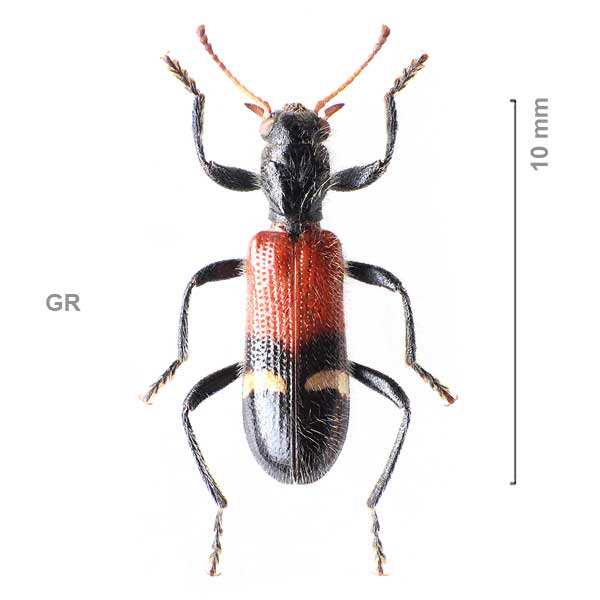opilo_taeniatus: (141, 11, 459, 584)
